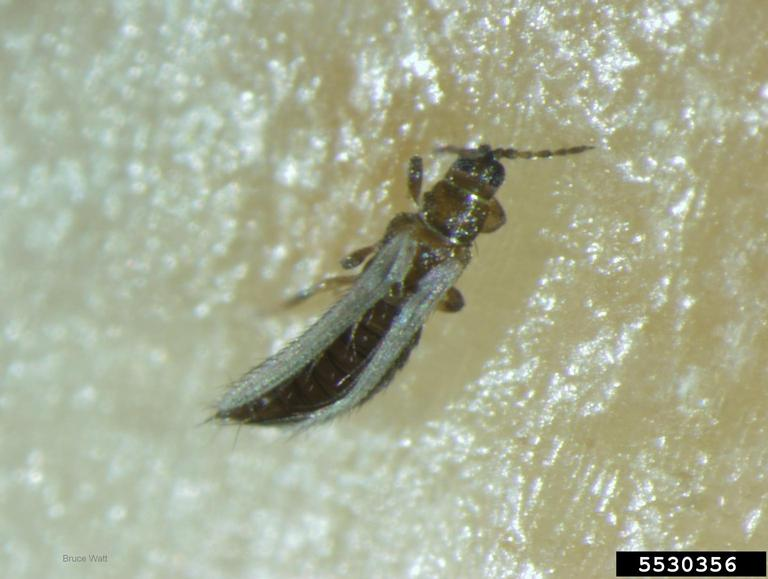Thrips: (202, 121, 558, 448)
